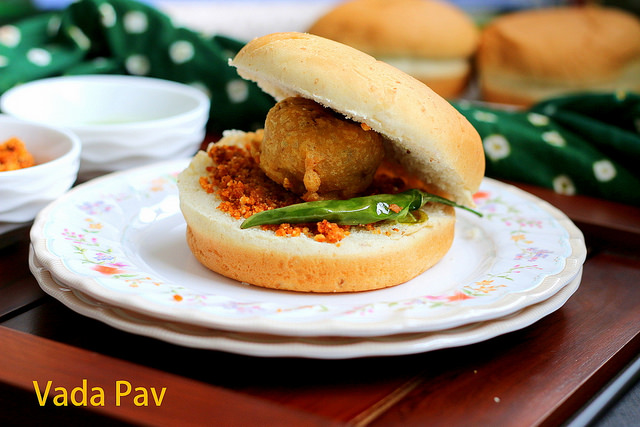vada pav: (251, 55, 394, 276)
